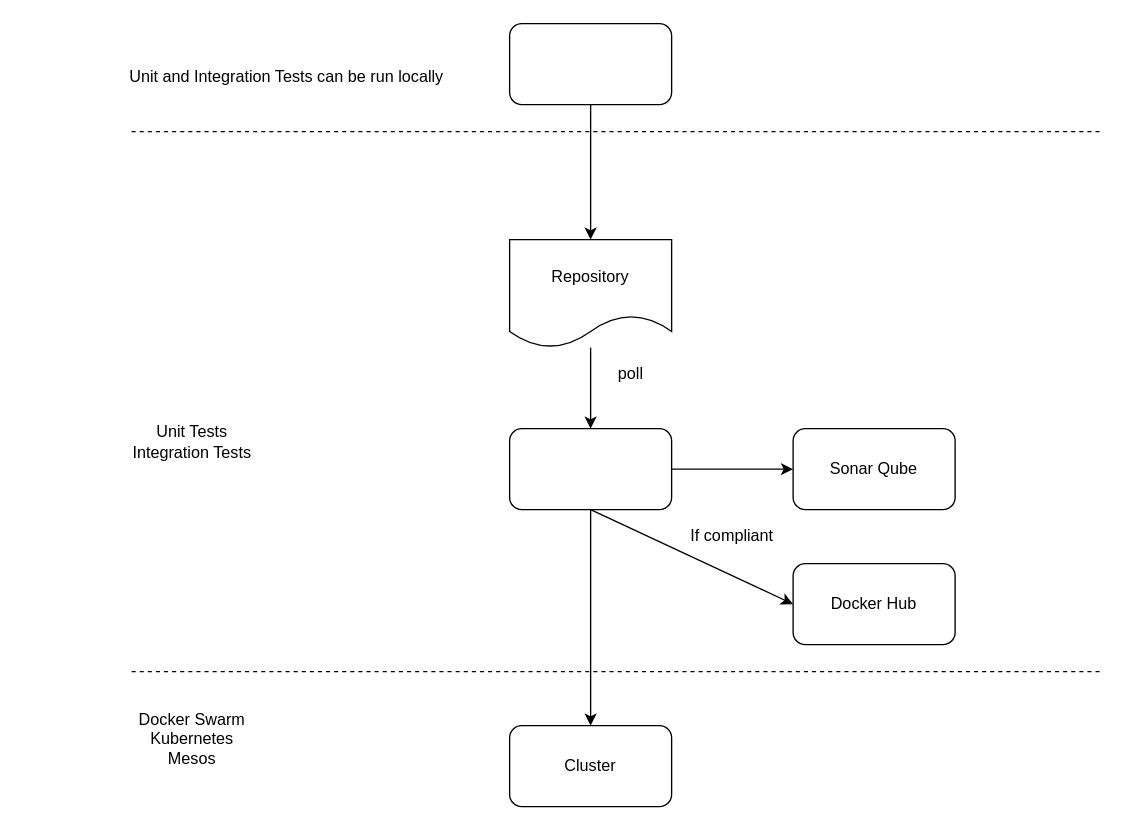
The diagram is 1129 pixels wide and 830 high, and some of its shapes have lost their labels. The shapes that lost their labels are listed below. From the top down, each one's centre as x and y in pixels, then its label:
At (590,63): "Dev Machine".
At (590,468): "Jenkins".
